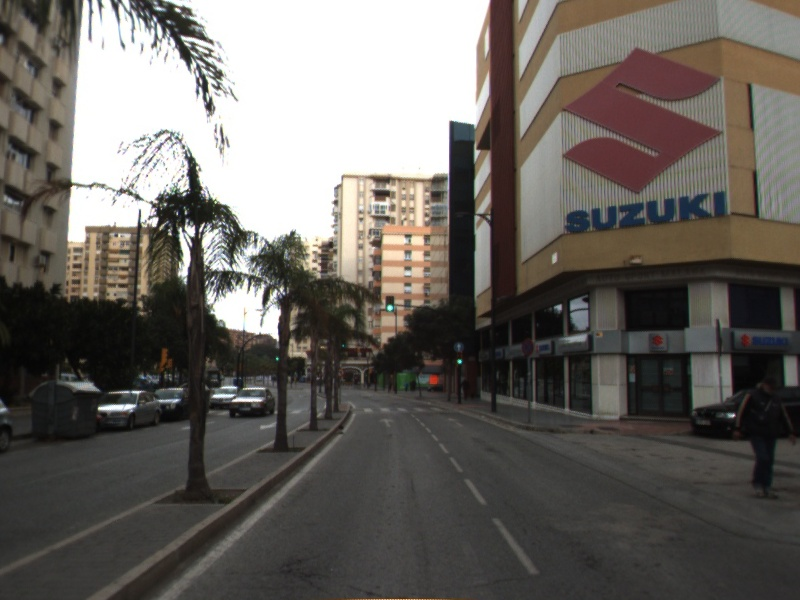STRAIGHT: (444, 415, 467, 429), (376, 415, 397, 429)
